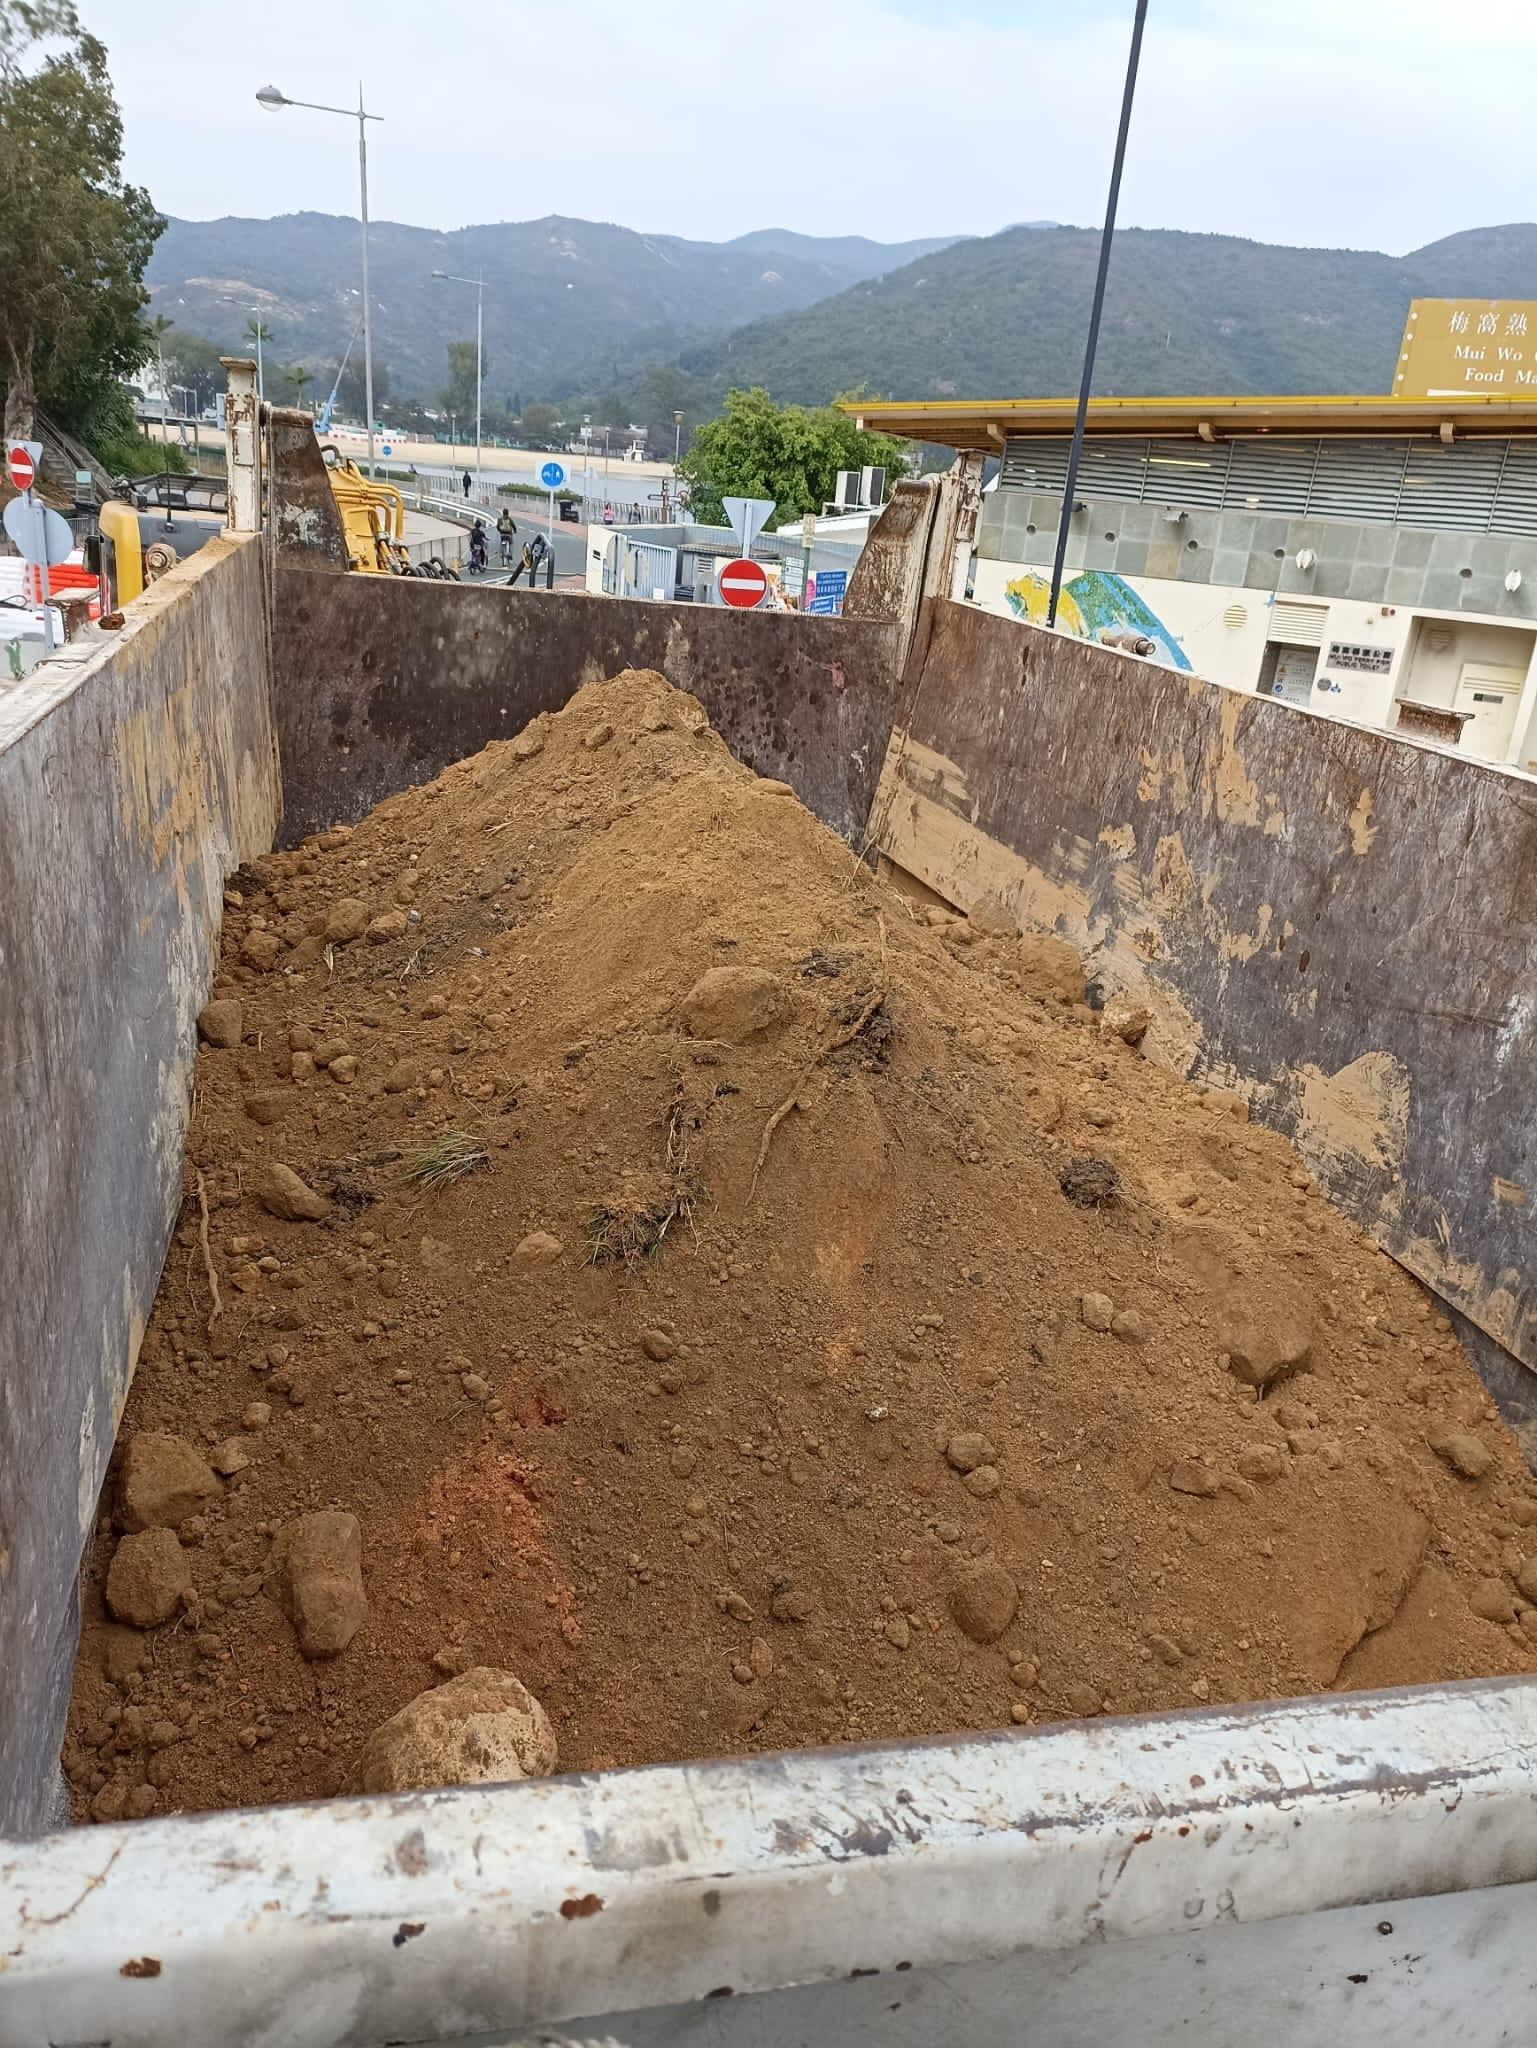dirt: (58, 660, 1534, 1825)
stone: (359, 1663, 557, 1793), (271, 1507, 369, 1657), (111, 1429, 224, 1529), (101, 1524, 193, 1626), (677, 962, 791, 1042), (946, 1560, 1017, 1642), (255, 1159, 328, 1220), (1055, 1151, 1119, 1206), (196, 995, 242, 1046), (324, 896, 370, 943)
